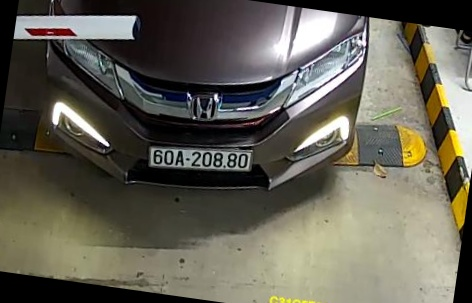plate: (142, 134, 254, 179)
